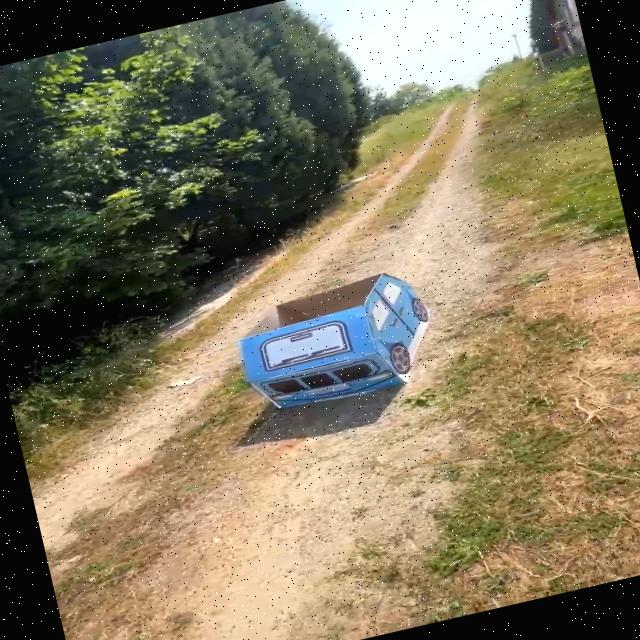blue_car: (193, 233, 482, 437)
